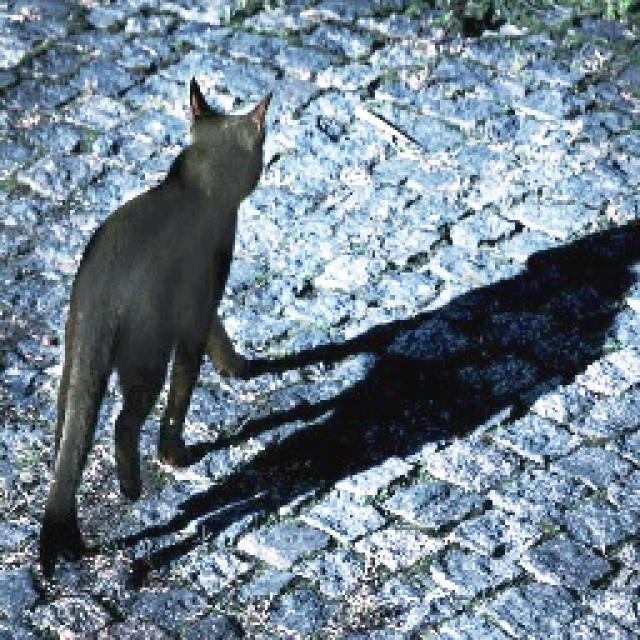cat: (32, 75, 273, 583)
